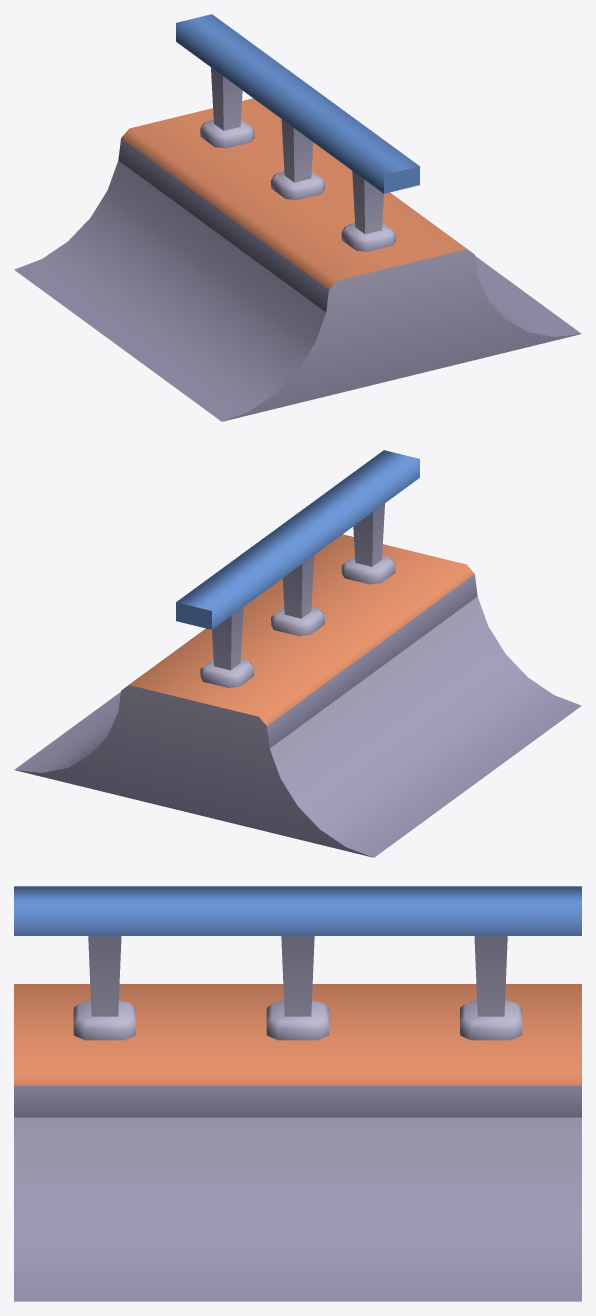
File: obstacle-middle-rail.fbx
The picture shows the model from 3 angles, top to bottom: view 1: azimuth 30°, elevation 25°; view 2: azimuth 150°, elevation 25°; view 3: azimuth 270°, elevation 25°; orthographic projection. The views are drawn at different scales.
Visible parts, largest first — view 1: obstacle-middle-rail; view 2: obstacle-middle-rail; view 3: obstacle-middle-rail.
Part boxes in pixels (x1=…): obstacle-middle-rail: x1=14, y1=14, x2=581, y2=421; obstacle-middle-rail: x1=14, y1=450, x2=581, y2=857; obstacle-middle-rail: x1=14, y1=886, x2=581, y2=1301.
Bounding box in the file's own units: 100 × 55 × 100.
Materials: 1 (1 with a texture image).
